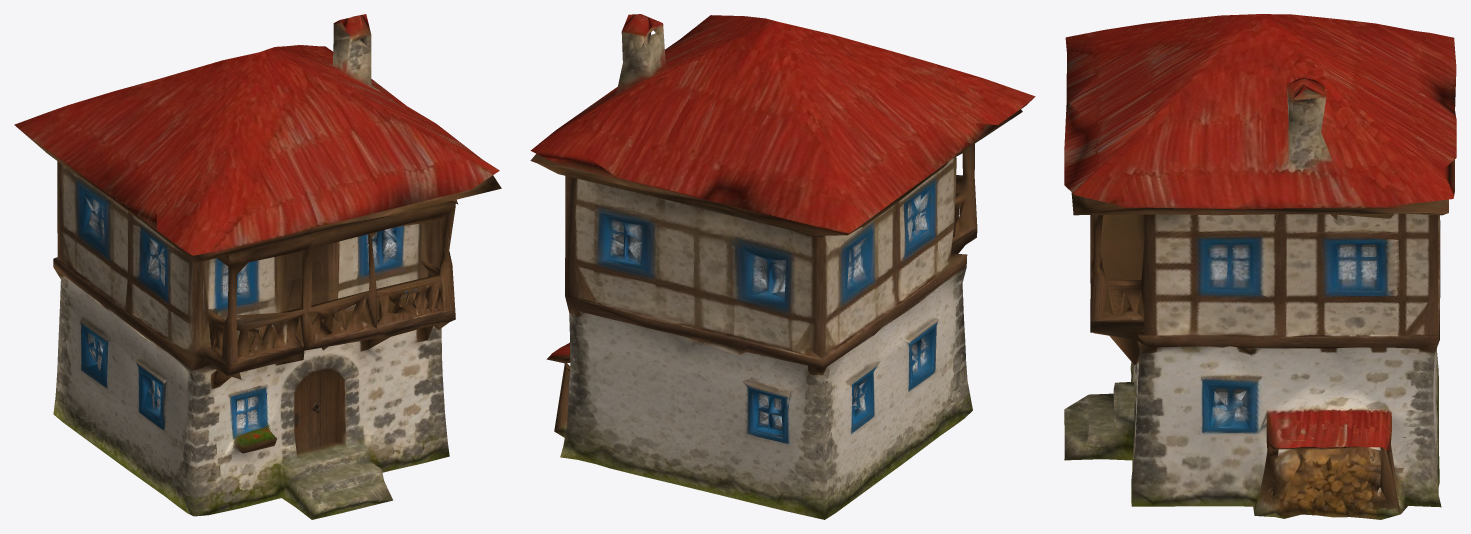
3 views of the same model, side by side, from view 1: azimuth 30°, elevation 25°; view 2: azimuth 150°, elevation 25°; view 3: azimuth 270°, elevation 25° (orthographic). The views are drawn at different scales.
Parts seen in each view (by area): view 1: tripo_node_7d6689e5-74f6-4cf0-830e-0b4c985a774f; view 2: tripo_node_7d6689e5-74f6-4cf0-830e-0b4c985a774f; view 3: tripo_node_7d6689e5-74f6-4cf0-830e-0b4c985a774f.
Boxes of the visible parts, left/top/right/bottom form: tripo_node_7d6689e5-74f6-4cf0-830e-0b4c985a774f: left=14, top=14, right=501, bottom=519; tripo_node_7d6689e5-74f6-4cf0-830e-0b4c985a774f: left=530, top=14, right=1035, bottom=519; tripo_node_7d6689e5-74f6-4cf0-830e-0b4c985a774f: left=1064, top=14, right=1456, bottom=519.
Size of the model in its own units: 0.8484 by 0.9817 by 0.8195.
1 material, 1 textured.
